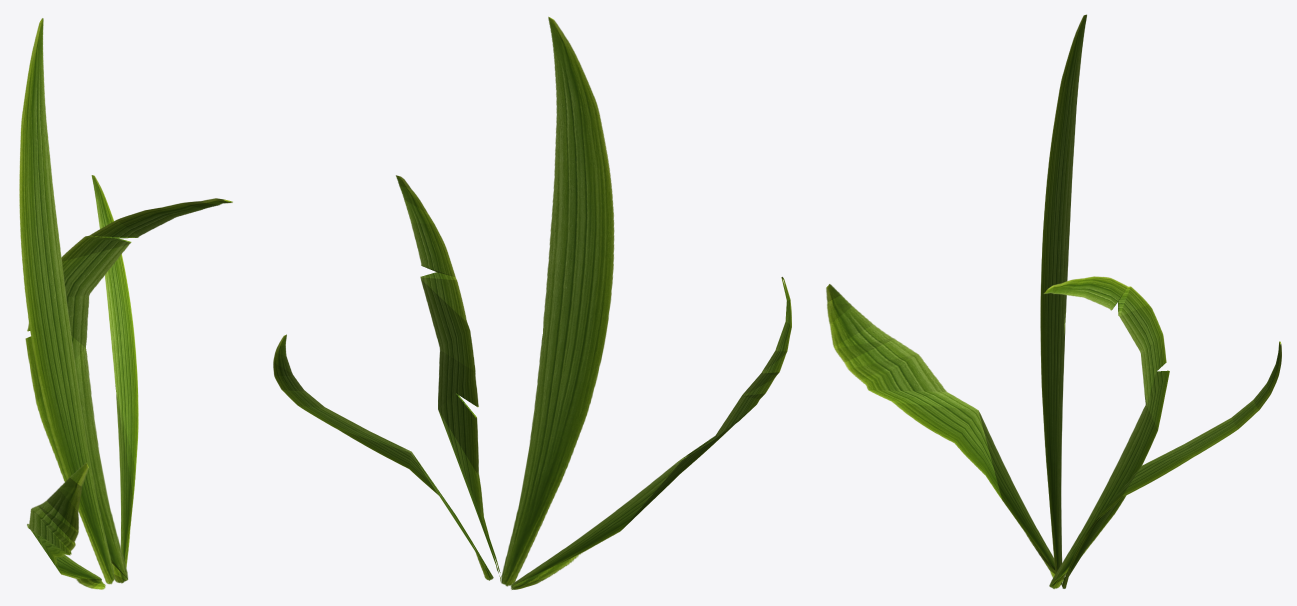
Rendered from grass_00.glb.
The picture shows the model from 3 angles, left to right: view 1: azimuth 30°, elevation 25°; view 2: azimuth 150°, elevation 25°; view 3: azimuth 270°, elevation 25°; orthographic projection. The views are drawn at different scales.
Parts seen in each view (by area): view 1: Solo pasto1; view 2: Solo pasto1; view 3: Solo pasto1.
Boxes of the visible parts, x1,y1,x2,y2 form: Solo pasto1: (19, 18, 232, 589); Solo pasto1: (273, 16, 791, 589); Solo pasto1: (826, 14, 1281, 588).
Bounding box in the file's own units: 0.4448 × 0.8675 × 0.6546.
1 material, 1 textured.
